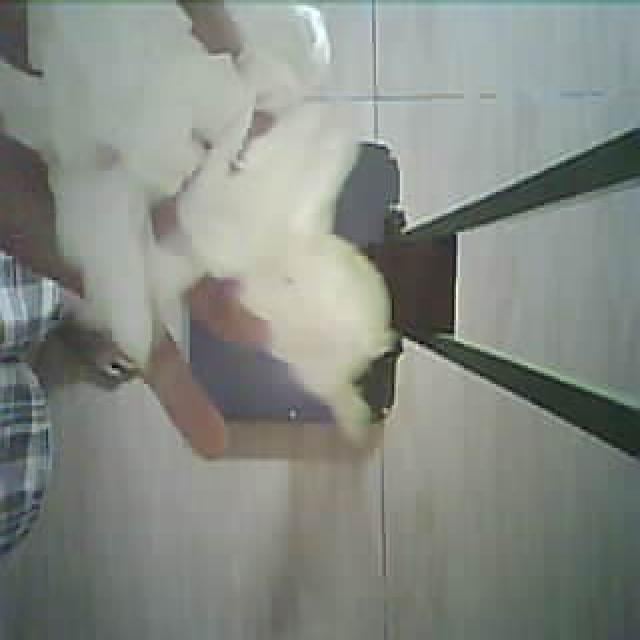Paper: (32, 8, 408, 428)
